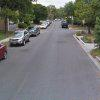Tree: (59, 2, 100, 58)
